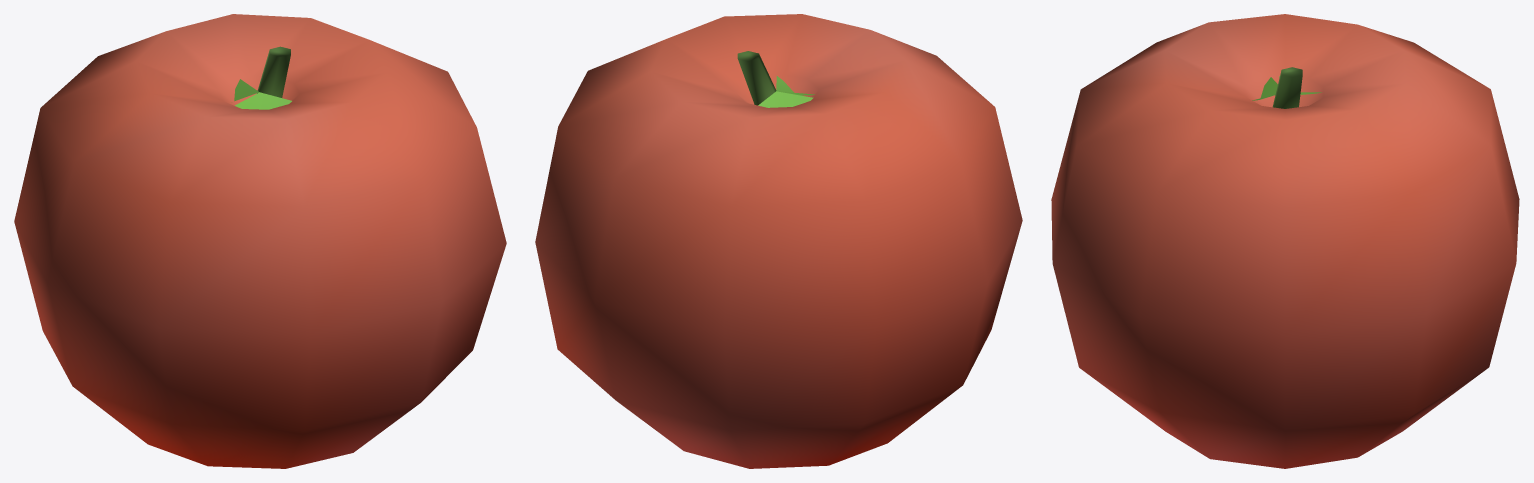
File: food_fruit_a.fbx
The picture shows the model from 3 angles, left to right: view 1: azimuth 30°, elevation 25°; view 2: azimuth 150°, elevation 25°; view 3: azimuth 270°, elevation 25°; orthographic projection.
Visible parts, largest first — view 1: food_fruit_a; view 2: food_fruit_a; view 3: food_fruit_a.
Boxes of the visible parts, x1=… form: food_fruit_a: x1=14, y1=14, x2=506, y2=468; food_fruit_a: x1=535, y1=14, x2=1022, y2=468; food_fruit_a: x1=1051, y1=14, x2=1519, y2=468.
Size of the model in its own units: 140 by 116 by 134.
